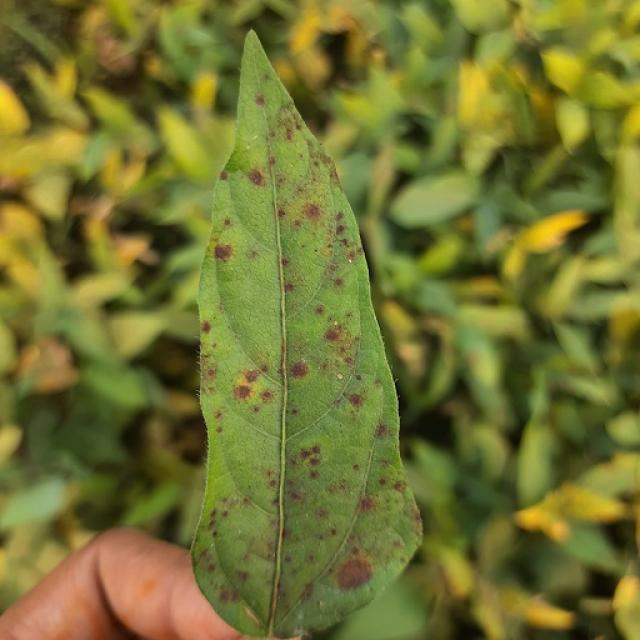Anthracnose: (336, 555, 373, 590), (281, 359, 319, 384), (297, 444, 322, 468), (213, 243, 233, 262), (324, 324, 342, 343), (289, 361, 309, 378), (219, 587, 239, 604), (303, 203, 321, 221), (358, 495, 377, 512), (299, 582, 314, 601), (248, 169, 264, 186), (234, 384, 251, 400), (243, 369, 260, 383), (287, 488, 303, 502), (375, 423, 389, 438), (412, 508, 422, 529), (348, 392, 362, 406), (392, 480, 406, 493), (200, 320, 211, 334), (261, 390, 272, 403), (317, 507, 328, 519), (247, 249, 259, 260), (265, 468, 276, 480), (285, 127, 294, 141), (255, 94, 265, 106), (335, 224, 345, 235), (315, 305, 325, 315), (311, 445, 321, 455), (206, 368, 216, 378), (283, 283, 294, 292), (347, 251, 356, 262), (334, 278, 344, 287), (309, 470, 319, 479), (328, 263, 338, 272), (344, 356, 353, 366), (242, 497, 251, 507), (277, 209, 286, 218), (268, 479, 277, 488), (223, 218, 232, 227), (220, 171, 228, 181), (336, 211, 344, 221), (214, 410, 222, 419), (281, 258, 289, 266), (260, 365, 268, 373), (215, 426, 222, 434), (252, 405, 259, 413), (352, 463, 359, 470), (290, 408, 297, 415), (330, 528, 336, 536), (356, 374, 362, 381), (212, 530, 218, 537)
Blackgram: (191, 34, 421, 635)
